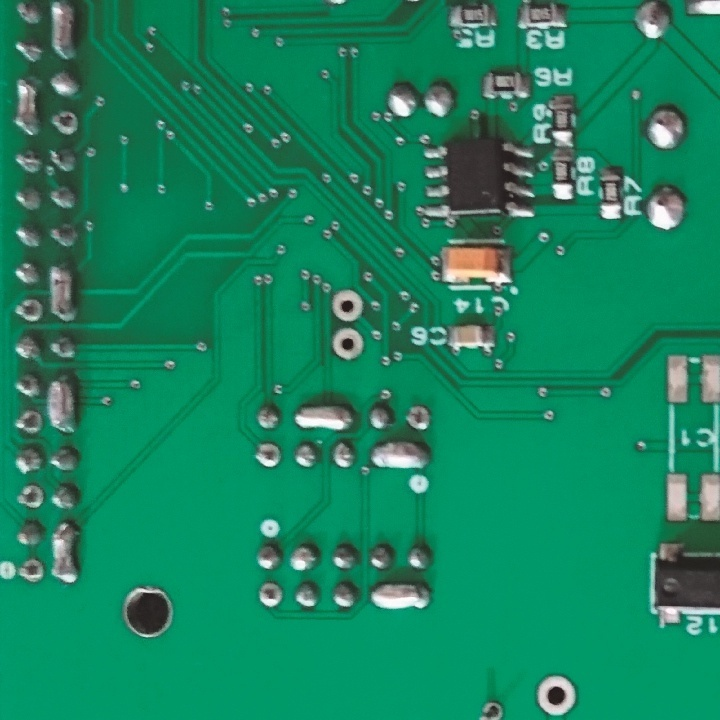F: (532, 673, 580, 718), (332, 326, 364, 362), (330, 289, 364, 322), (48, 107, 80, 138), (253, 440, 285, 470), (12, 298, 44, 328), (15, 554, 45, 585), (13, 408, 43, 438), (15, 483, 47, 511), (256, 580, 284, 609), (404, 403, 431, 433), (475, 698, 509, 720)
P: (50, 520, 83, 586), (368, 437, 430, 470), (46, 372, 78, 435), (48, 259, 79, 323), (370, 580, 432, 612), (50, 1, 81, 63), (294, 400, 352, 433), (15, 72, 40, 140)
